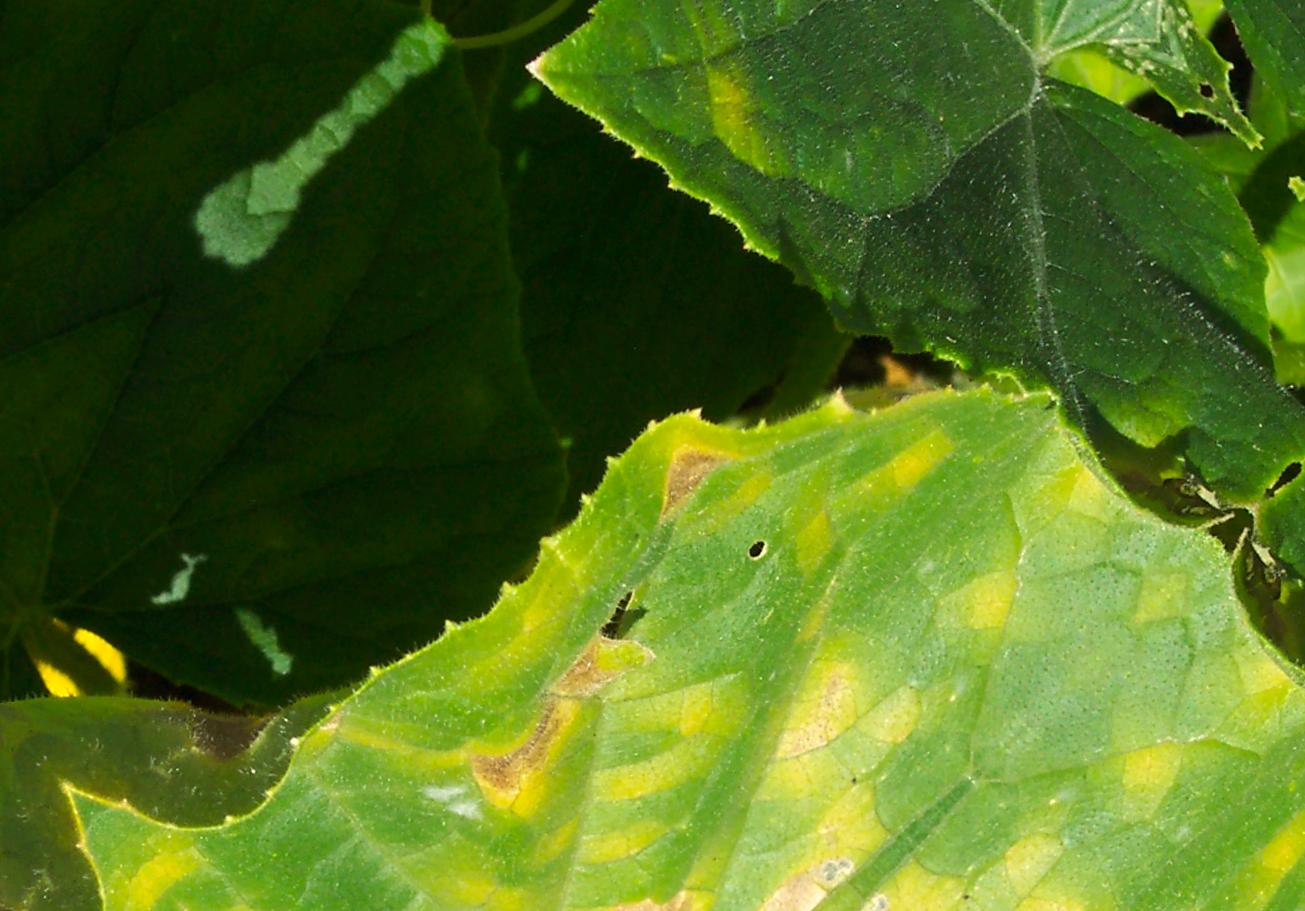Tomato mold leaf: (0, 0, 1272, 911)
